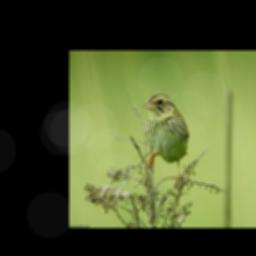Sparrow: (142, 92, 190, 187)
